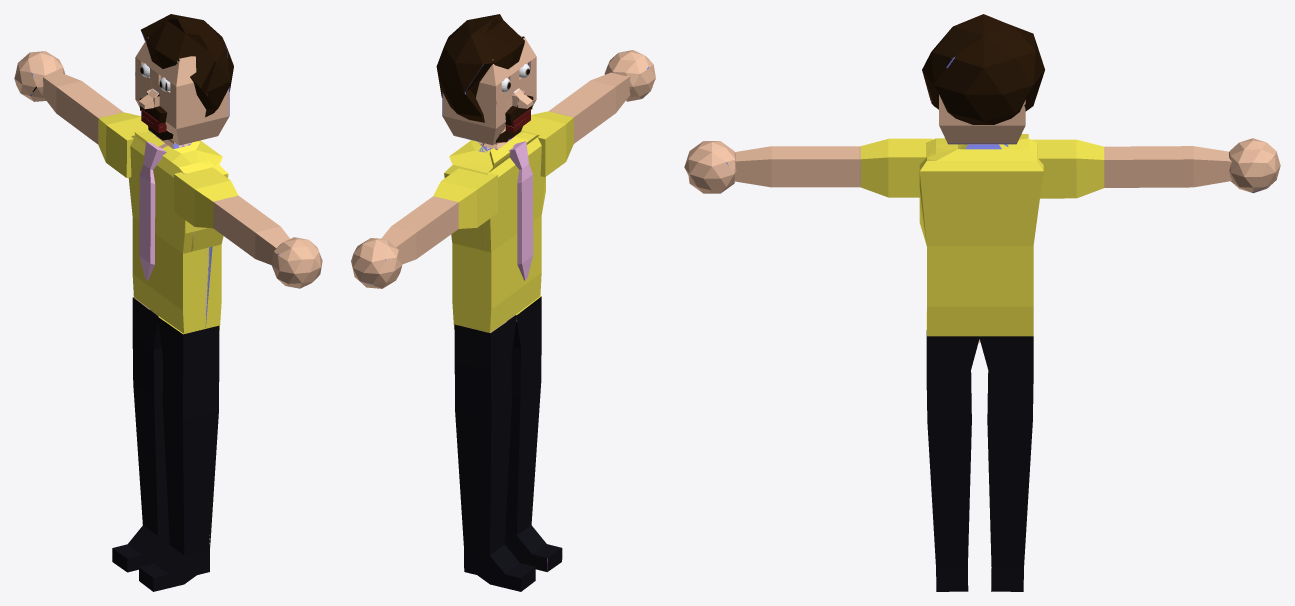
The model's file is Buca.glb.
The picture shows the model from 3 angles, left to right: view 1: azimuth 30°, elevation 25°; view 2: azimuth 150°, elevation 25°; view 3: azimuth 270°, elevation 25°; orthographic projection. The views are drawn at different scales.
Visible parts, largest first — view 1: Cube; view 2: Cube; view 3: Cube.
Part boxes in pixels (x1=…): Cube: x1=14, y1=14, x2=322, y2=591; Cube: x1=351, y1=14, x2=655, y2=591; Cube: x1=684, y1=14, x2=1280, y2=591.
Bounding box in the file's own units: 2.32 × 12.89 × 12.03.
Materials: 3 (3 with a texture image).
